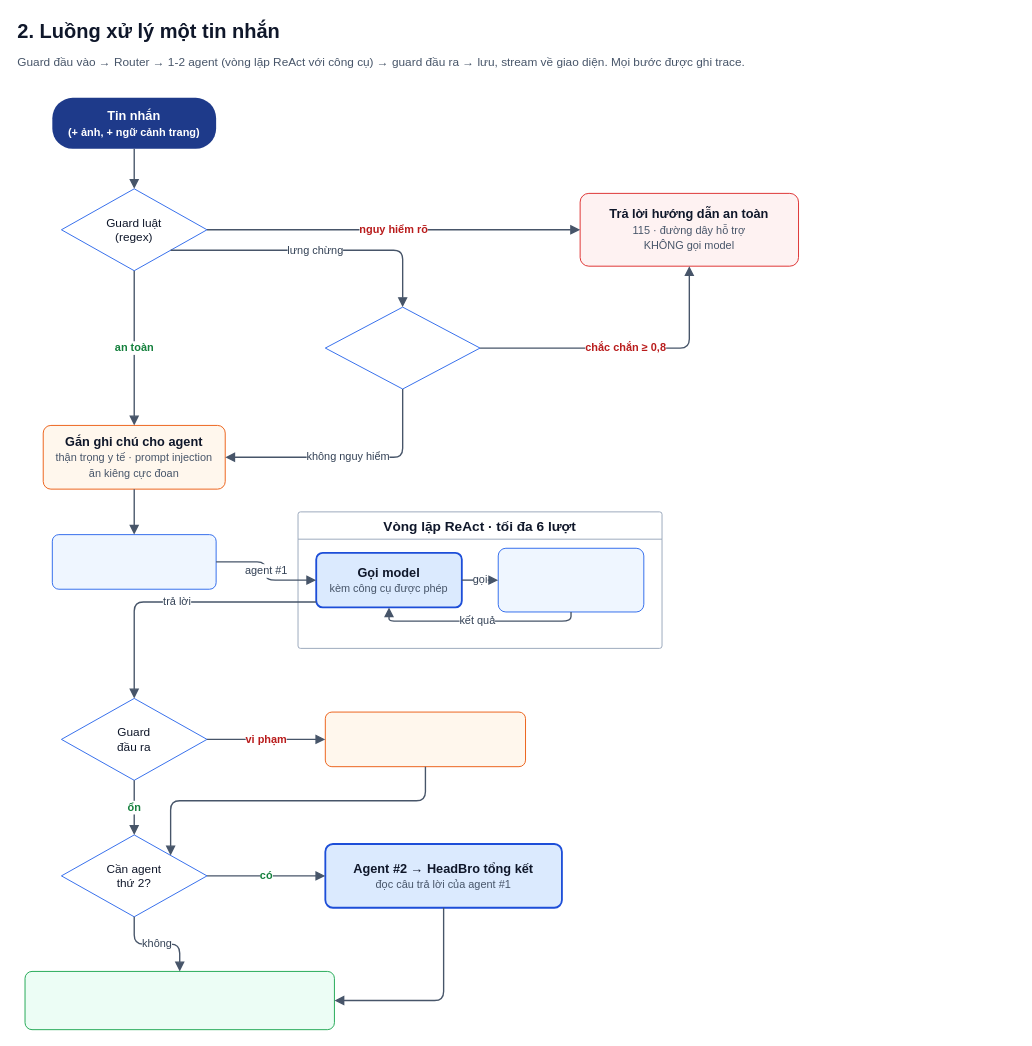
Some shapes in this 1032 by 1046 pixel diagram are drawn without their labels. The centre of each missing label's shape, as x and y in pixels:
"Công cụ đọc DB · RAG thẻ · đề xuất ghi" goes at (x=570, y=579).
"LLM phân loại câu lưng chừng" goes at (x=402, y=347).
"Lưu DB · gợi ý câu hỏi tiếp · lưu trace stream sự kiện SSE về giao diện" goes at (x=179, y=1000).
"Nối “Lưu ý an toàn” lộ prompt → thay câu" goes at (x=425, y=739).
"Router từ khoá → LLM (JSON)" goes at (x=133, y=561).
